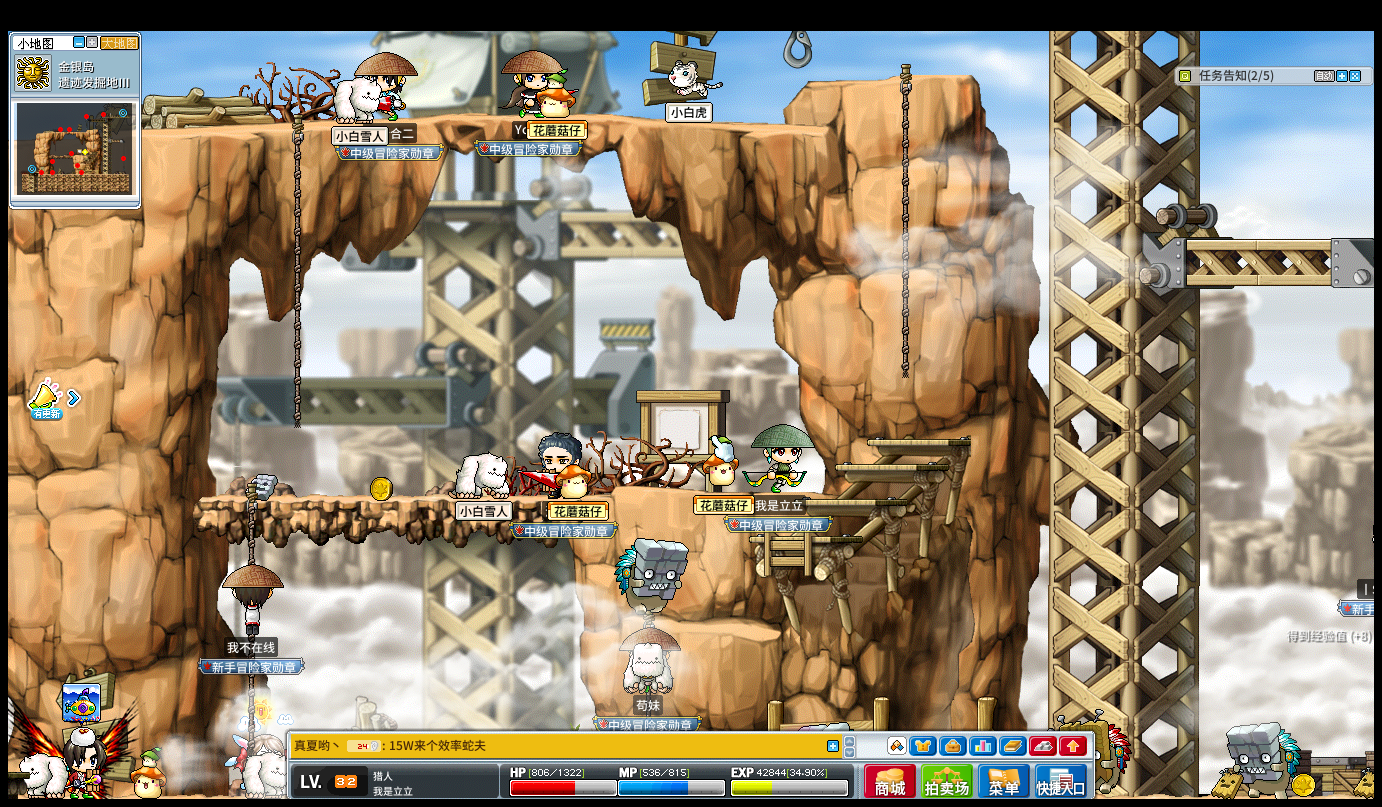floor: (123, 109, 832, 137), (192, 494, 577, 505), (1188, 232, 1376, 251), (1180, 230, 1377, 247), (808, 72, 978, 86), (674, 619, 780, 640), (743, 537, 860, 550), (691, 490, 849, 499), (684, 489, 842, 497), (750, 533, 863, 543), (868, 437, 970, 447), (833, 463, 949, 471), (794, 496, 905, 504), (804, 498, 905, 505)
monster: (615, 537, 689, 620), (1226, 723, 1300, 794), (1088, 717, 1133, 791)
rope: (897, 61, 912, 387), (292, 110, 302, 429), (244, 481, 258, 563)
